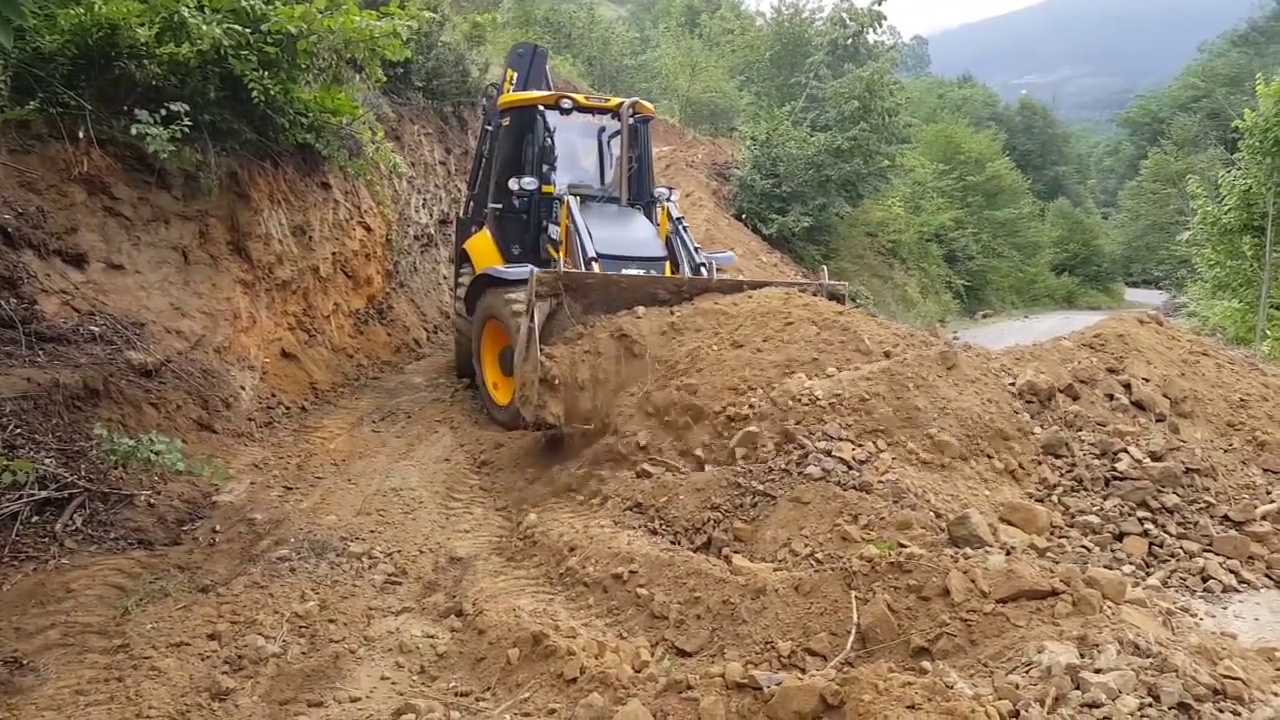wheel loader: (448, 39, 857, 434)
